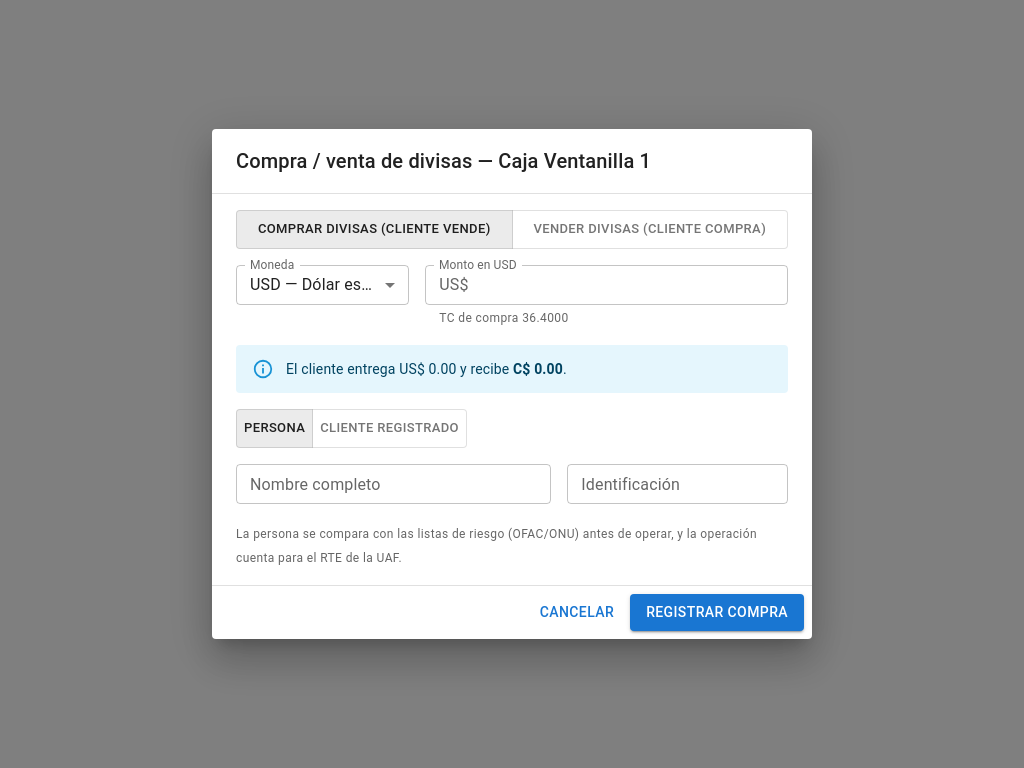
Scenario: Compra / venta de divisas › compra dólares a una persona identificada y muestra lo que se le entrega
Type "100" into the number field labelled "Monto en USD" at [632, 285], box left=477, top=265, right=788, bottom=305
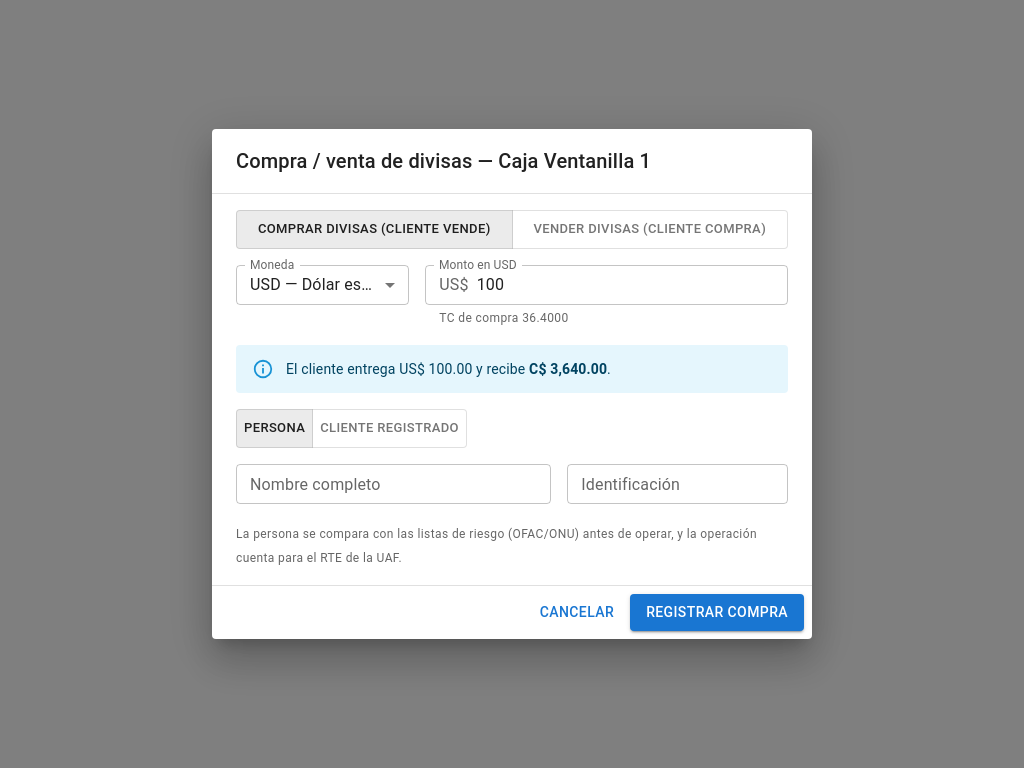
Check: the message with test id "fx-equivalent" shows "recibe C$ 3,640.00", box left=236, top=345, right=788, bottom=393
Click the button "Registrar compra" at [717, 613], box left=630, top=594, right=804, bottom=631
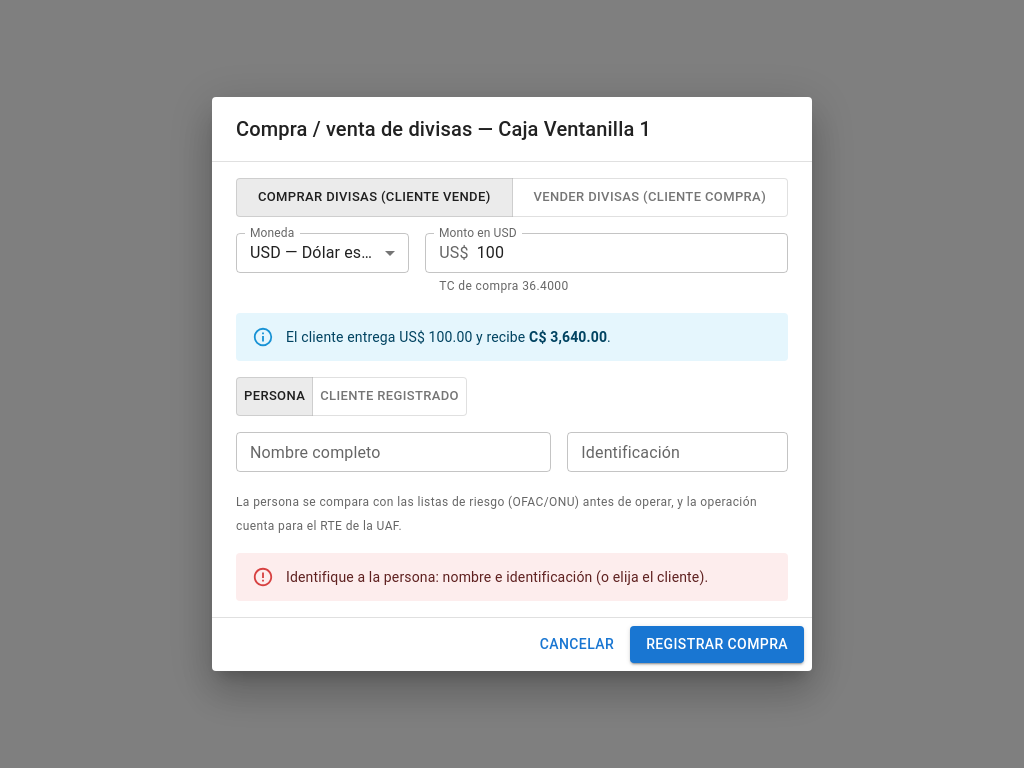
Check: the text "Identifique a la persona" is shown, box left=286, top=569, right=708, bottom=585
Type "Juan Pérez" into the field labelled "Nombre completo" at [394, 452], box left=236, top=432, right=551, bottom=472
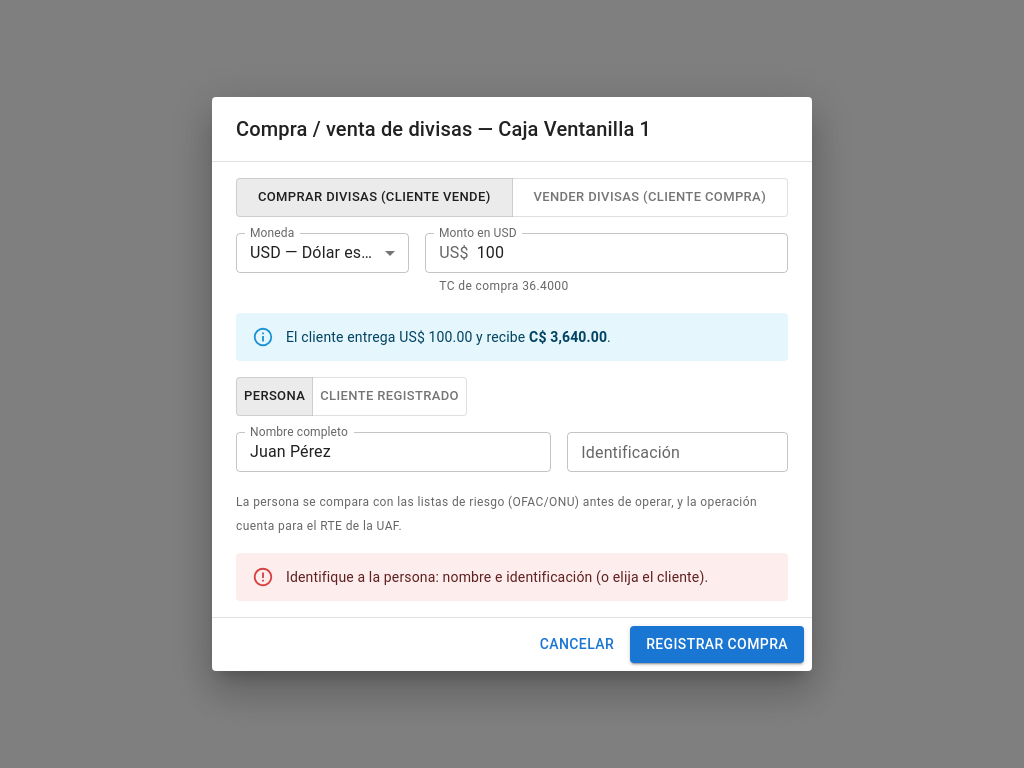
Type "001-010180-0001A" into the field labelled "Identificación" at [678, 452], box left=567, top=432, right=788, bottom=472
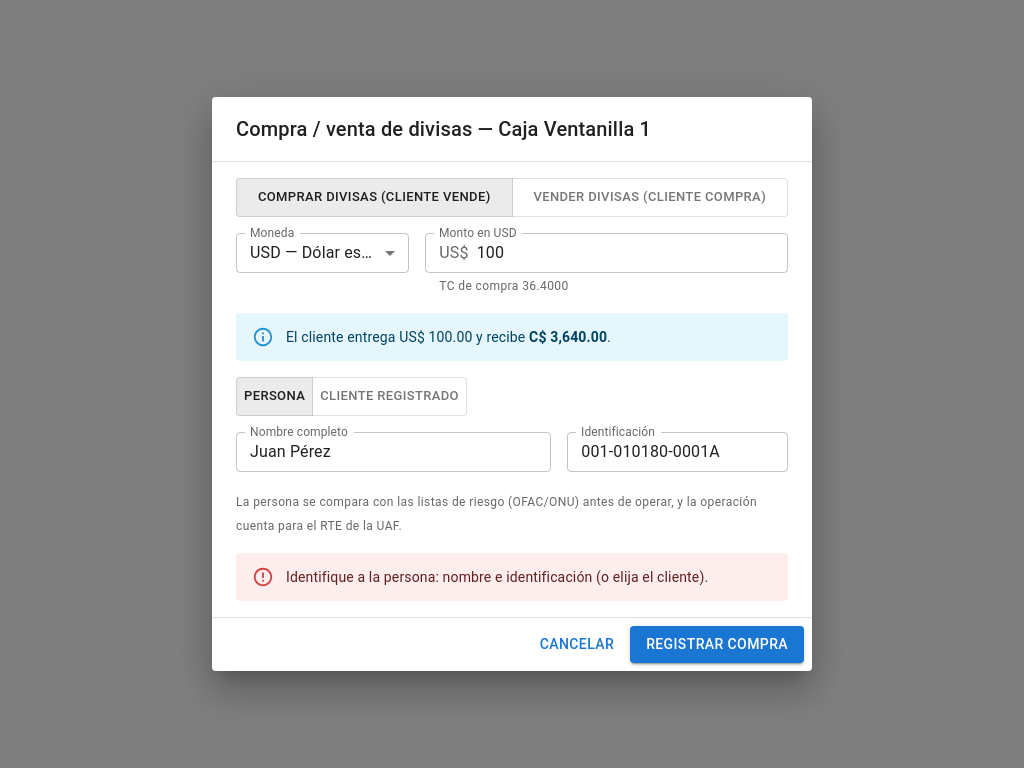
Click the button "Registrar compra" at [717, 645], box left=630, top=626, right=804, bottom=663
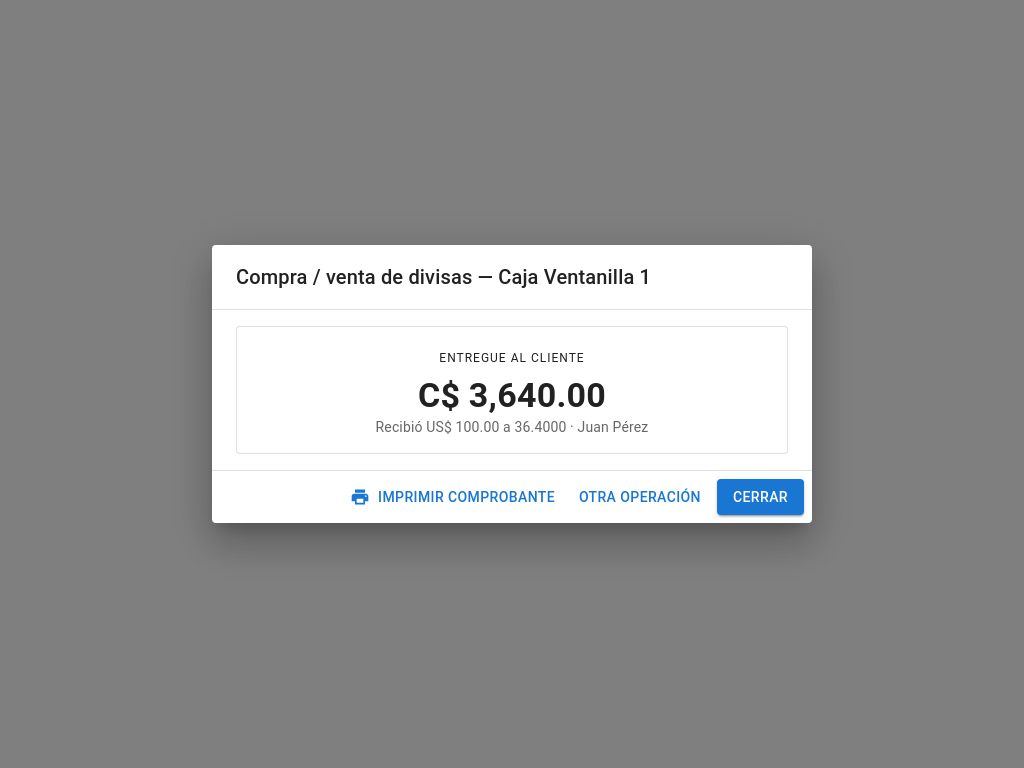
Check: the element with test id "fx-result" shows "C$ 3,640.00", box left=418, top=375, right=606, bottom=415
